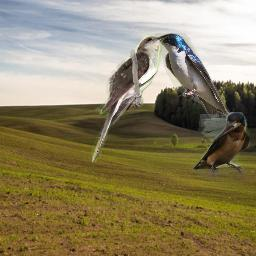Cuckoo: (92, 34, 169, 163)
Swallow: (155, 33, 232, 118), (192, 112, 250, 178)
